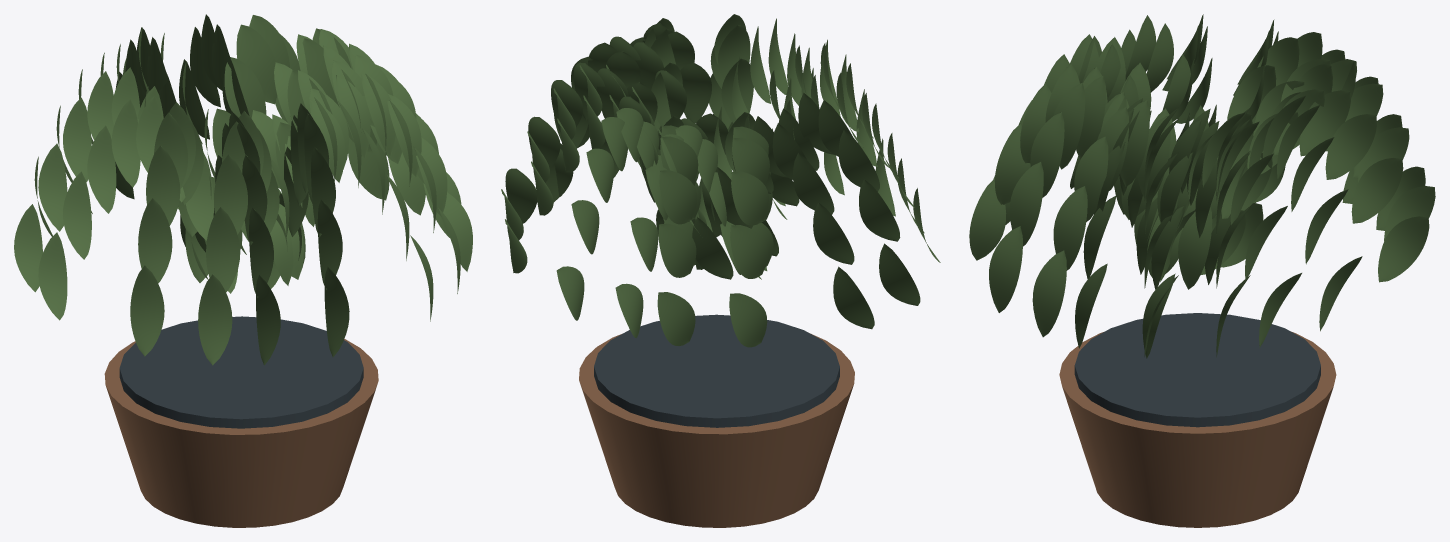
File: plant-14-5.glb
3 renders of one model, left to right at view 1: azimuth 30°, elevation 25°; view 2: azimuth 150°, elevation 25°; view 3: azimuth 270°, elevation 25°, orthographic.
Visible parts, largest first — view 1: part (×62); view 2: part (×65); view 3: part (×64).
Boxes of the visible parts, x1=… form: part (×62): x1=14, y1=14, x2=472, y2=527; part (×65): x1=505, y1=18, x2=920, y2=527; part (×64): x1=969, y1=15, x2=1435, y2=527.
Size of the model in its own units: 1 by 1 by 1.
